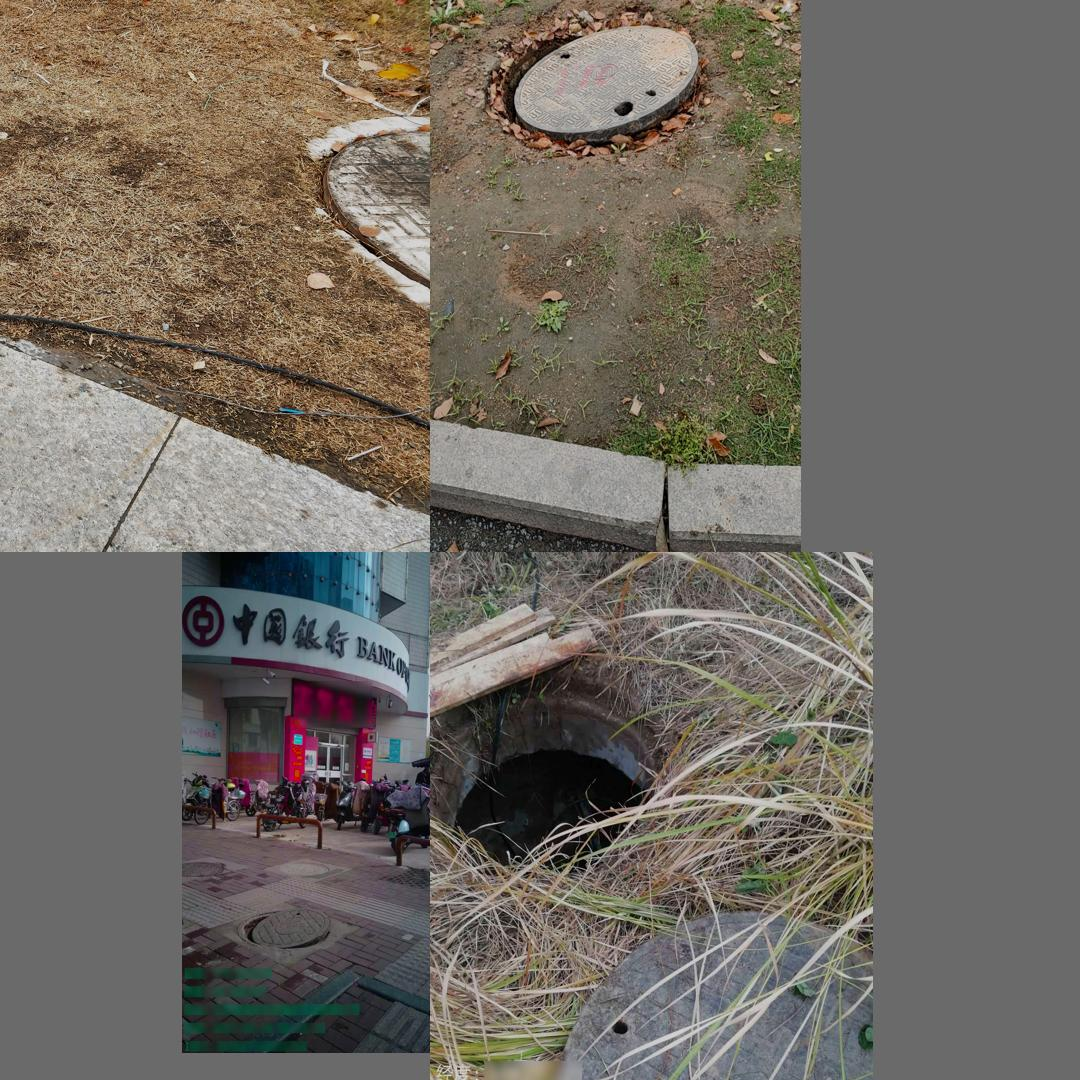good: (278, 862, 329, 878), (183, 861, 227, 875)
uncovered: (432, 585, 691, 914), (488, 23, 703, 146), (236, 904, 333, 948)
